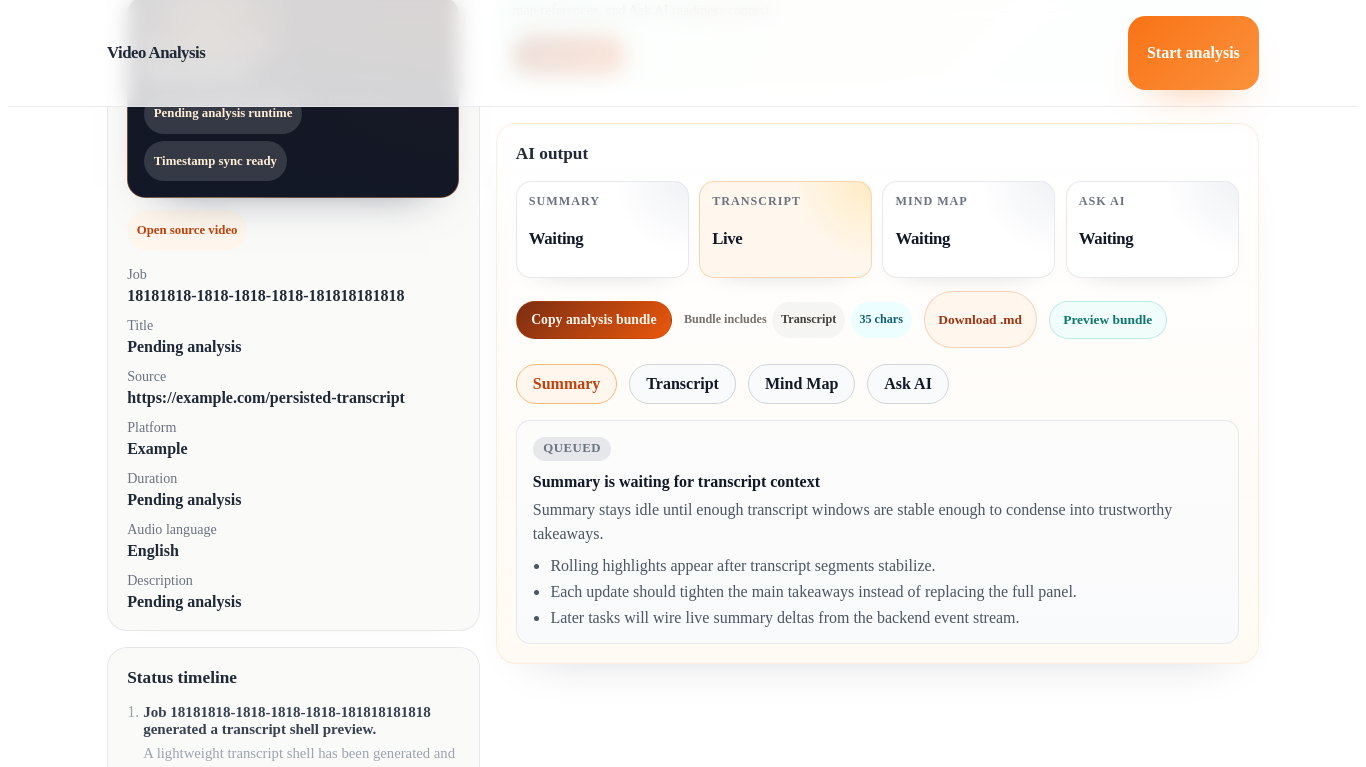
it: renders persisted transcript segments from the hydrated job snapshot
(page scrolled)
Check: the heading "AI output" is shown, box [516, 144, 588, 163]
What coordinates should you click on to do the following:
click the tab "Transcript"
I would click on:
 (683, 384)
Its box is [629, 364, 736, 404].
(page scrolled)
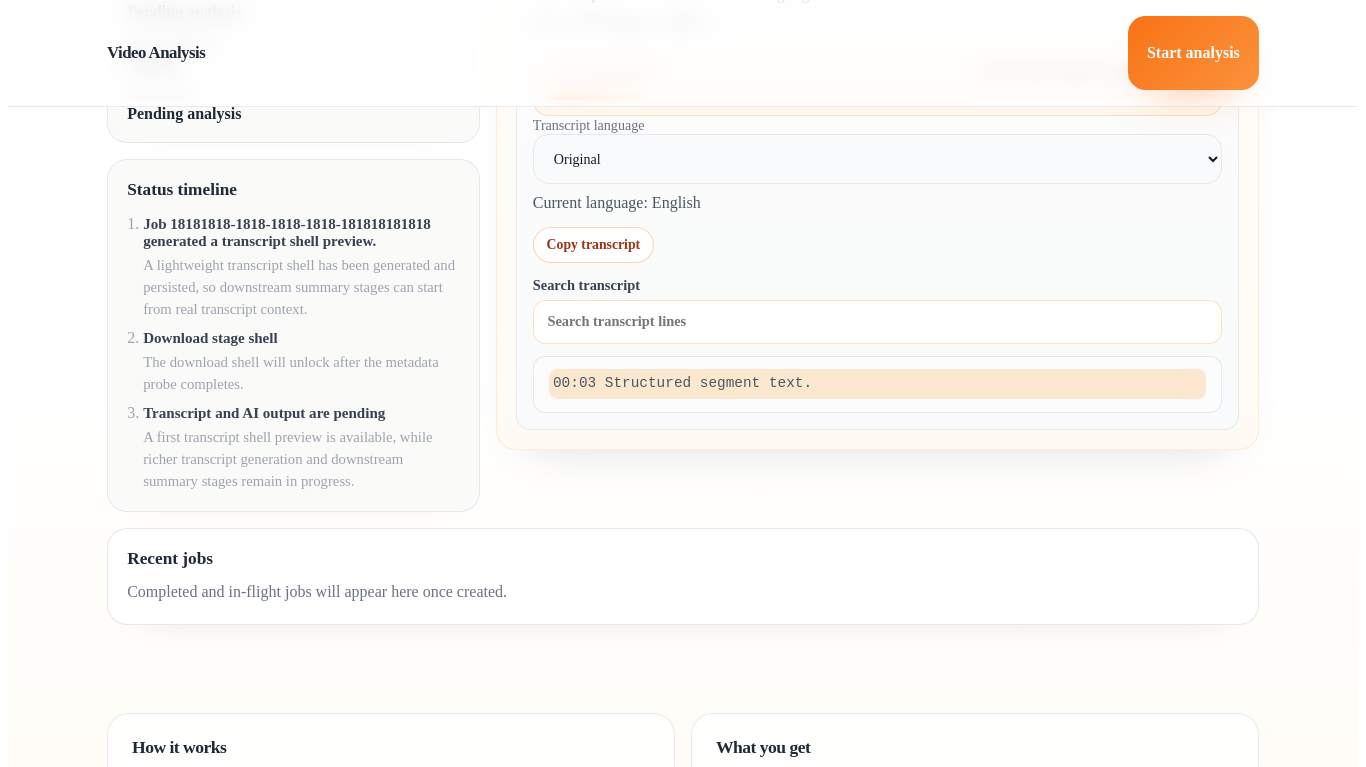
Check: the text "00:03" is shown, box [553, 376, 596, 392]
Check: the text "Structured segment text." is shown, box [605, 376, 812, 392]
